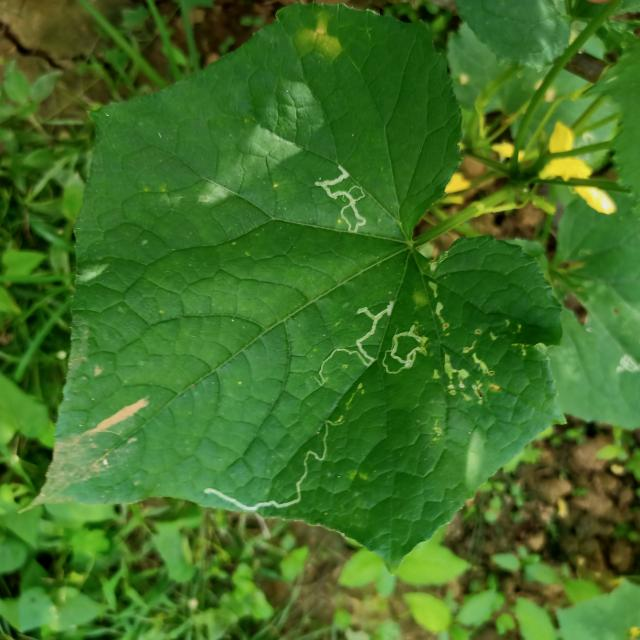disease_cucumber: (301, 9, 340, 61)
